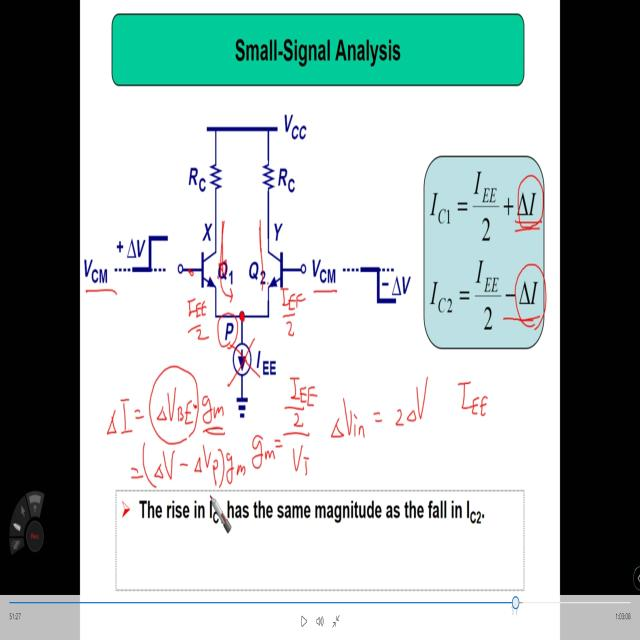panseo: (93, 354, 492, 497), (178, 287, 214, 346), (278, 276, 309, 338)
